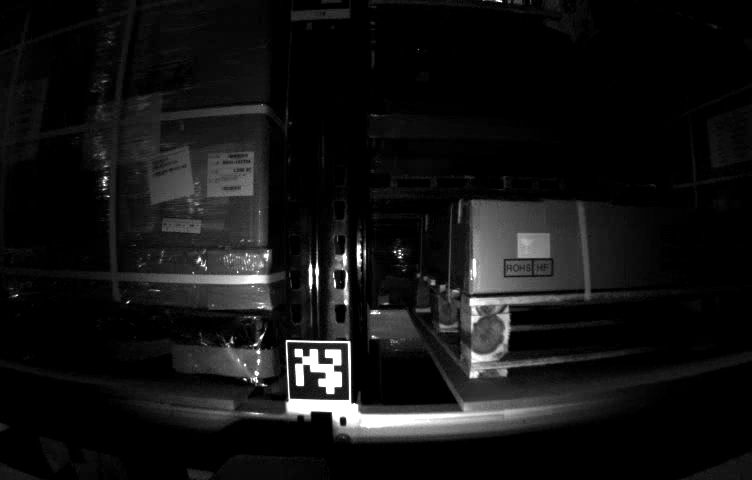True Barcode: (206, 149, 253, 197)
